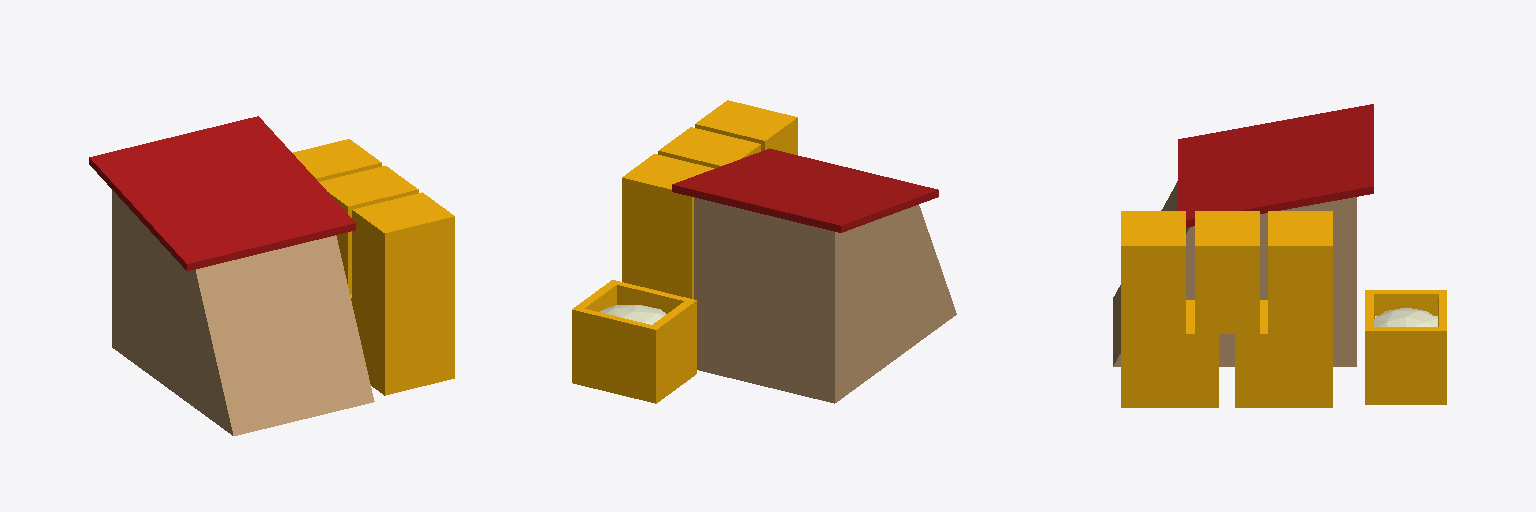
The model's file is BIronMine.obj.
3 renders of one model, left to right at view 1: azimuth 30°, elevation 25°; view 2: azimuth 150°, elevation 25°; view 3: azimuth 270°, elevation 25°, orthographic.
Visible parts, largest first — view 1: BIronMine; view 2: BIronMine; view 3: BIronMine.
Part boxes in pixels (bbox=[...]): BIronMine: bbox=[89, 116, 454, 435]; BIronMine: bbox=[572, 100, 956, 403]; BIronMine: bbox=[1113, 104, 1446, 407].
Size of the model in its own units: 3.4 by 2.54 by 4.1.